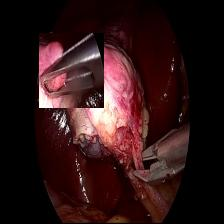Clipper: (132, 126, 180, 187)
Grasper: (39, 33, 104, 108)
